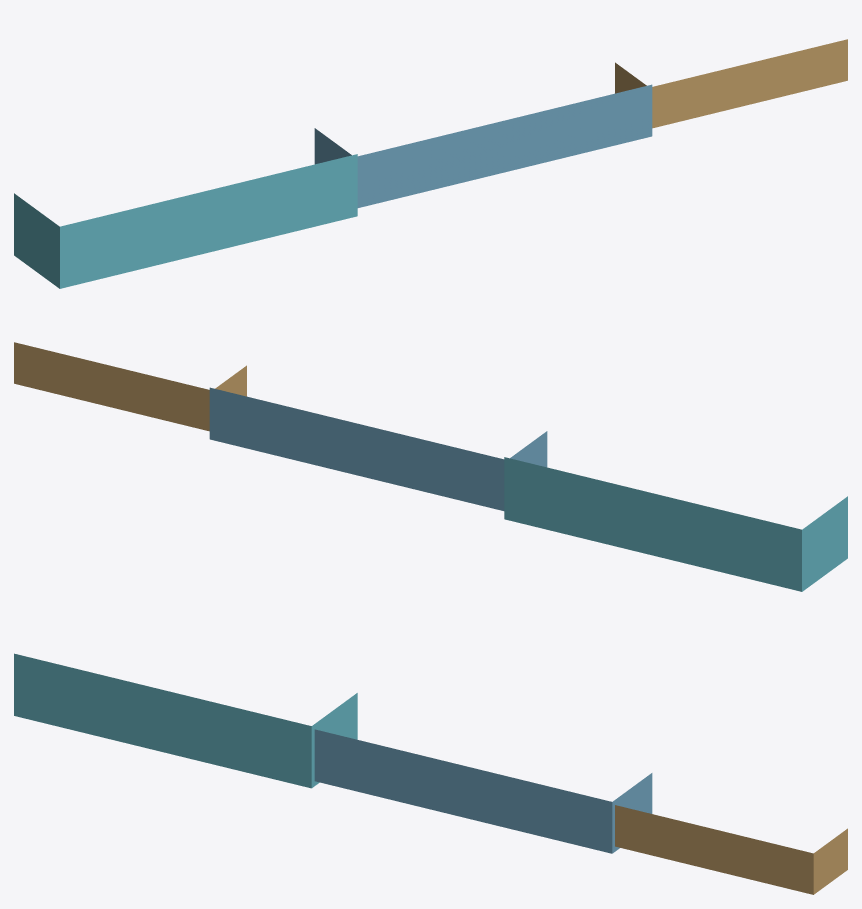
Rendered from arm3.glb.
3 views of the same model, one above another, from view 1: azimuth 30°, elevation 25°; view 2: azimuth 150°, elevation 25°; view 3: azimuth 330°, elevation 25° (orthographic).
Visible parts, largest first — view 1: J1, J2, J3; view 2: J1, J2, J3; view 3: J1, J2, J3.
Boxes of the visible parts, bbox=[...] form: J1: bbox=[14, 154, 357, 288]; J2: bbox=[314, 84, 652, 207]; J3: bbox=[615, 39, 847, 128]; J1: bbox=[504, 457, 847, 591]; J2: bbox=[209, 387, 547, 510]; J3: bbox=[14, 342, 246, 431]; J1: bbox=[14, 653, 357, 788]; J2: bbox=[314, 729, 652, 853]; J3: bbox=[615, 805, 847, 894].
Size of the model in its own units: 0.8 by 0.06 by 0.08.
